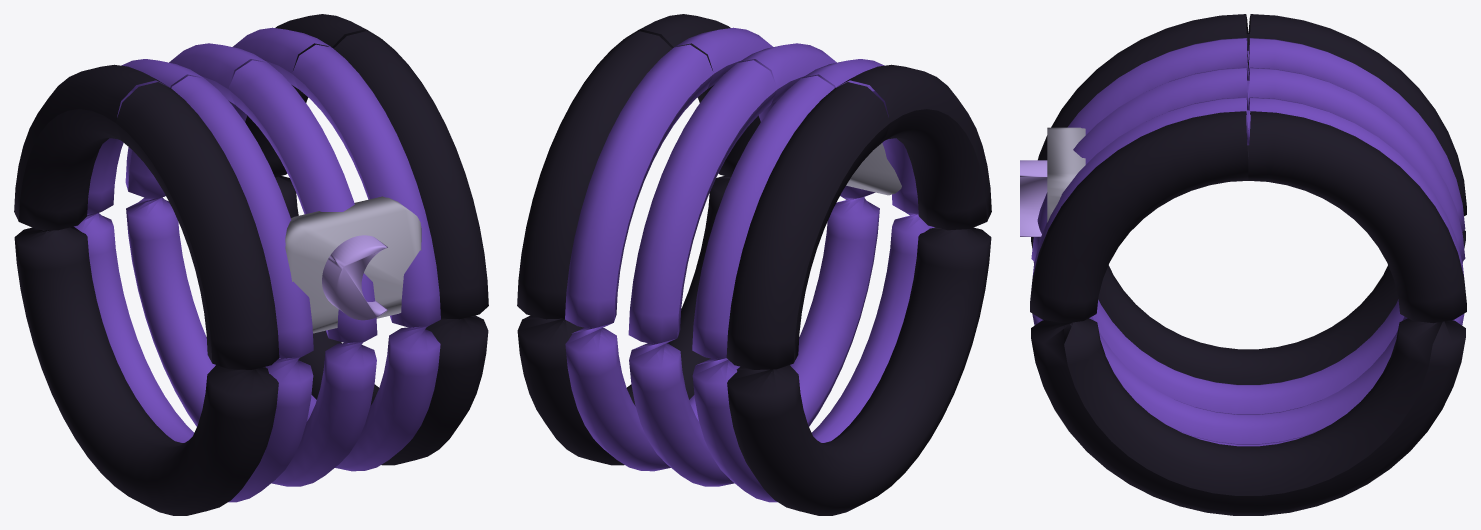
File: echo_left_wrist_cuff.glb
3 views of the same model, side by side, from view 1: azimuth 30°, elevation 25°; view 2: azimuth 150°, elevation 25°; view 3: azimuth 270°, elevation 25° (orthographic). The views are drawn at different scales.
Parts seen in each view (by area): view 1: echo_left_wrist_cuff; view 2: echo_left_wrist_cuff; view 3: echo_left_wrist_cuff.
Boxes of the visible parts, box(x1,y1,x2,y2) form: echo_left_wrist_cuff: box(14, 14, 488, 515); echo_left_wrist_cuff: box(517, 14, 991, 515); echo_left_wrist_cuff: box(1020, 14, 1466, 515).
Bounding box in the file's own units: 0.094 × 0.1368 × 0.1399.
